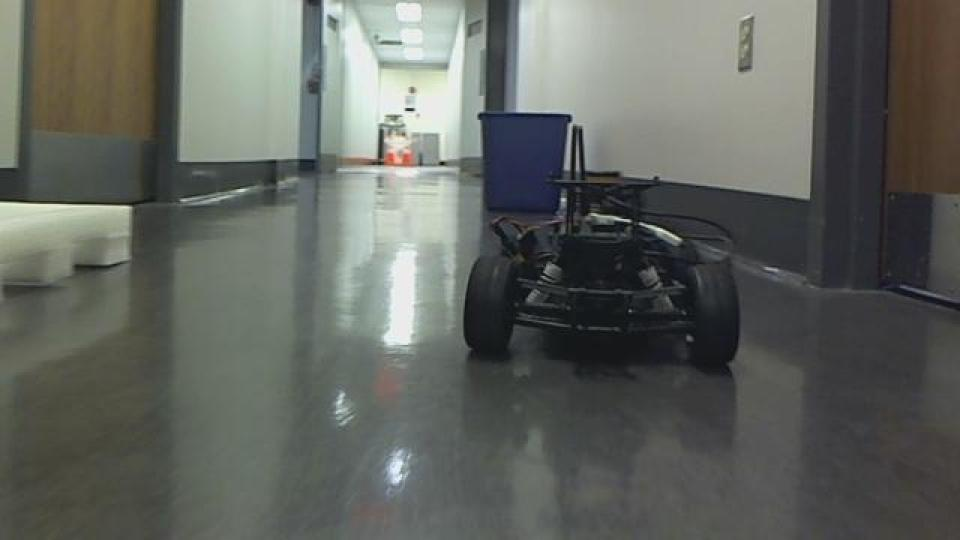car: (457, 121, 744, 376)
